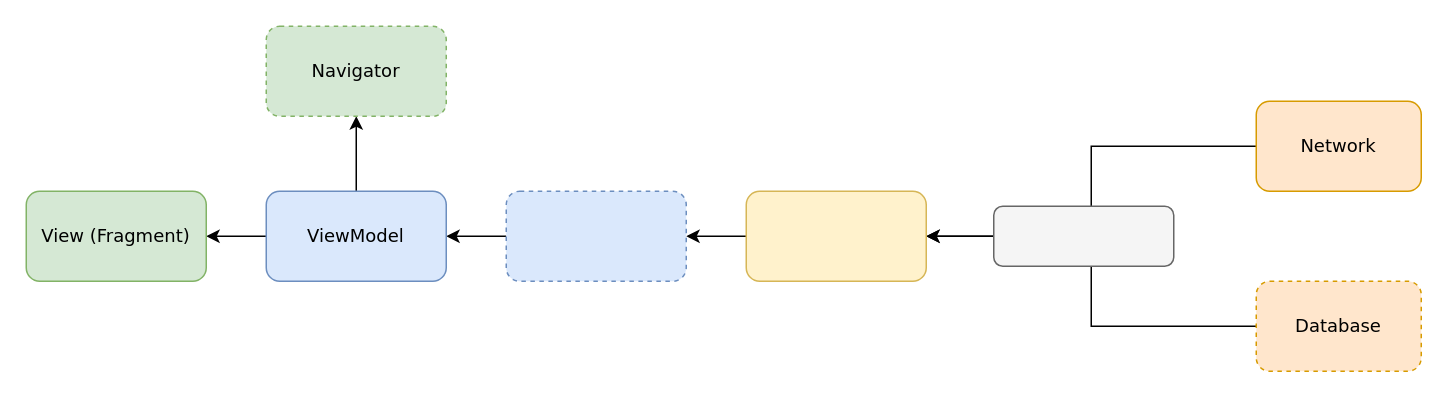
Image size: 1448x398. Some labels were removed from this diagram. The shapes that lost their labels are listed below. From the top down, each one's centre as x and y in pixels, then its label:
At point (595, 235): "Interactor".
At point (835, 235): "Repository".
At point (1083, 235): "Translation Layer".
